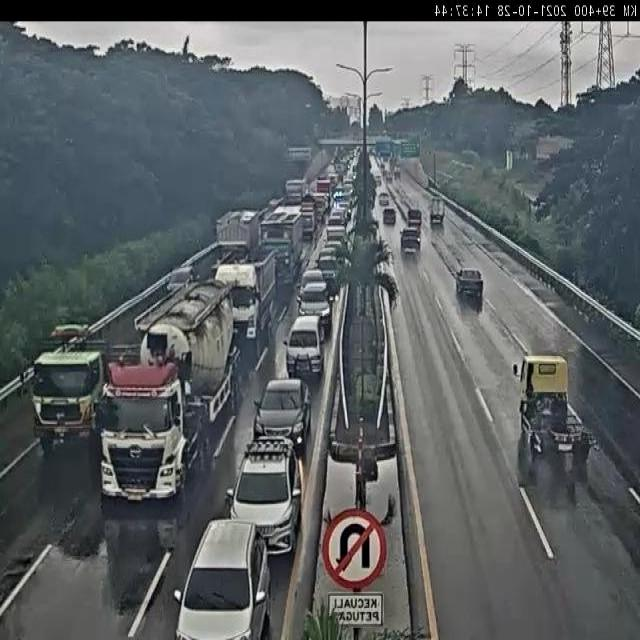Car: (171, 530, 272, 640), (232, 437, 310, 535), (253, 374, 317, 443), (285, 313, 329, 384), (316, 254, 342, 298), (167, 265, 195, 295), (400, 228, 420, 257), (383, 207, 396, 225), (378, 192, 390, 206)
Truck: (101, 290, 232, 510), (512, 355, 592, 488), (28, 336, 106, 454), (214, 204, 294, 304), (455, 268, 484, 310), (430, 198, 446, 226)
